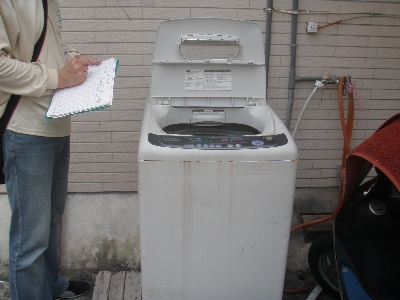washing_machine: (137, 18, 299, 300)
